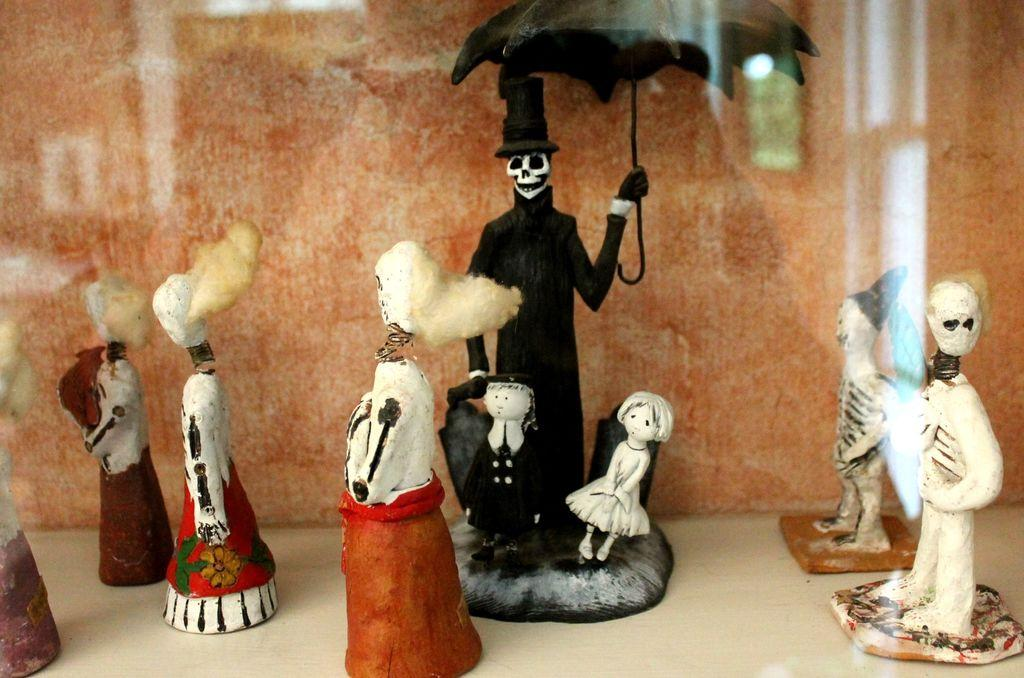Sem Máscara: (615, 400, 658, 439), (482, 384, 527, 419)
